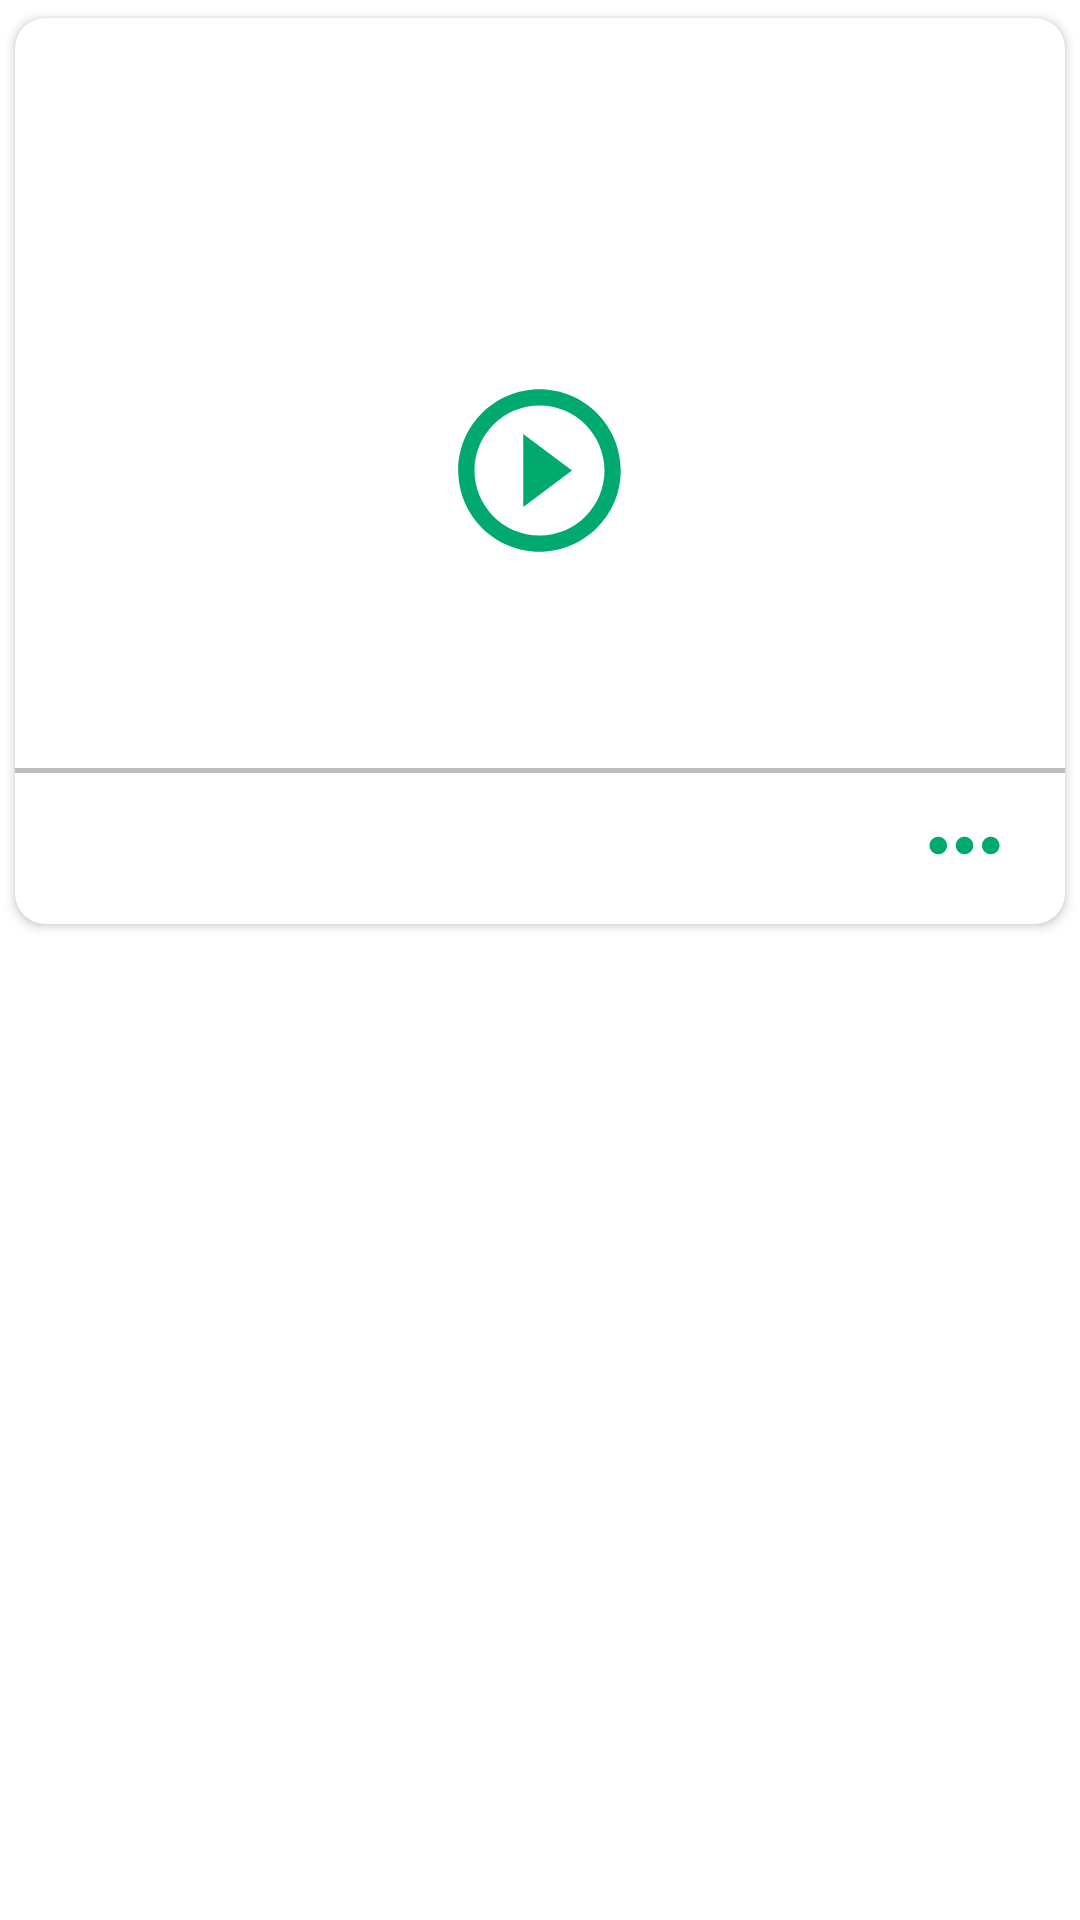

Named icons in this screenshot (1080*1920) and their centers, [x,y]:
more: [964,845]
play: [539,470]
